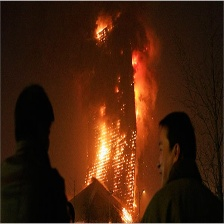fire: (87, 122, 138, 222), (94, 20, 114, 42)
smoke: (128, 8, 170, 116)
